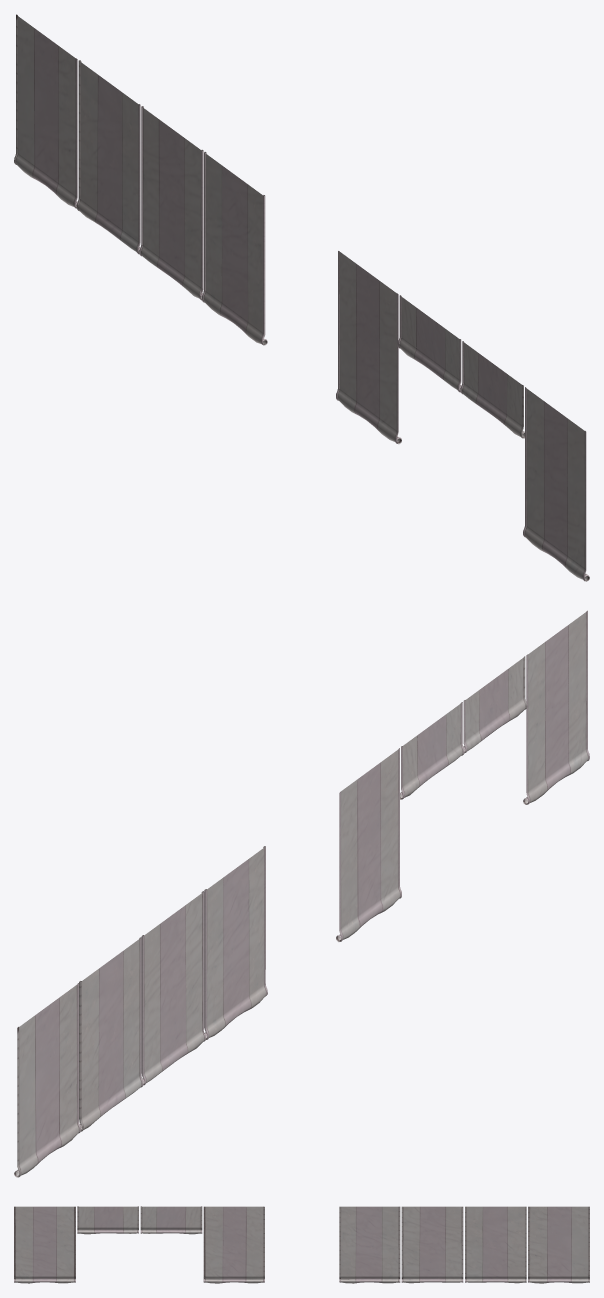
The model's file is TraditionalKoreanHouse_Pabric.fbx.
The picture shows the model from 3 angles, top to bottom: view 1: azimuth 30°, elevation 25°; view 2: azimuth 150°, elevation 25°; view 3: azimuth 270°, elevation 25°; orthographic projection. The views are drawn at different scales.
Visible parts, largest first — view 1: TraditionalKoreanHouse_Pabric; view 2: TraditionalKoreanHouse_Pabric; view 3: TraditionalKoreanHouse_Pabric.
Boxes of the visible parts, x1,y1,x2,y2 form: TraditionalKoreanHouse_Pabric: (14,14,589,581); TraditionalKoreanHouse_Pabric: (14,610,589,1177); TraditionalKoreanHouse_Pabric: (14,1206,589,1283).
Size of the model in its own units: 3.41 by 77.88 by 529.
